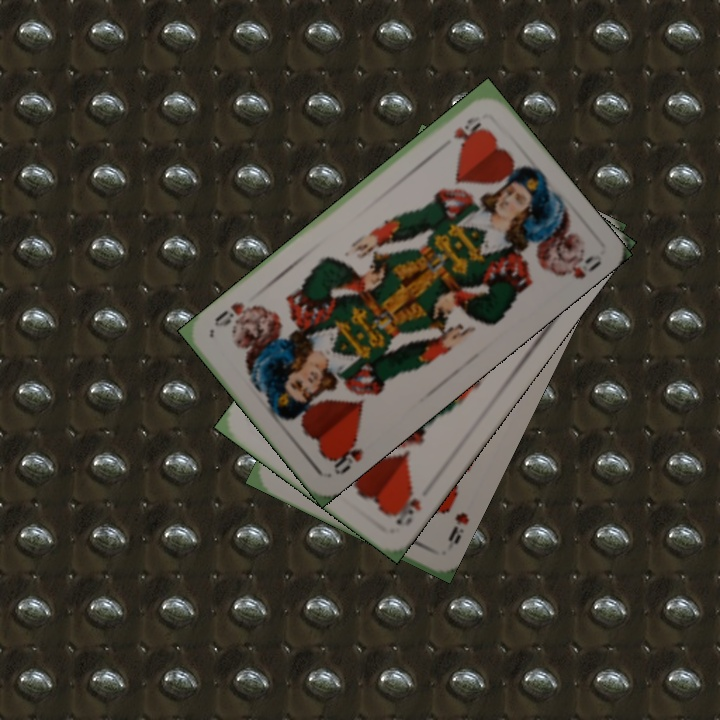H9: (444, 508, 472, 547)
HO: (326, 435, 366, 478), (389, 483, 424, 530), (448, 112, 484, 142)
